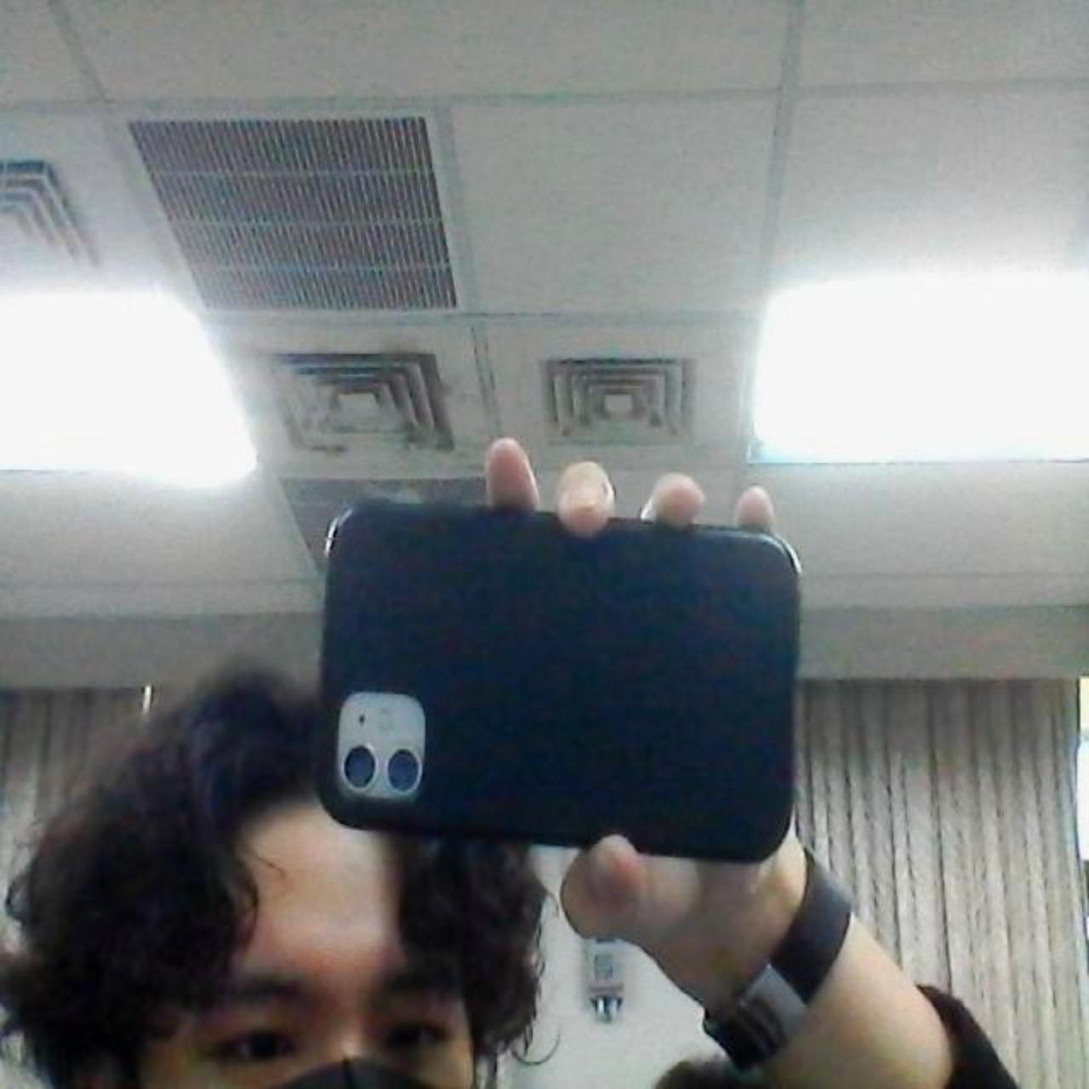phone: (305, 474, 810, 882)
